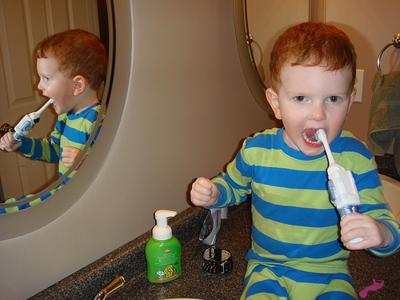person: (190, 21, 400, 300)
